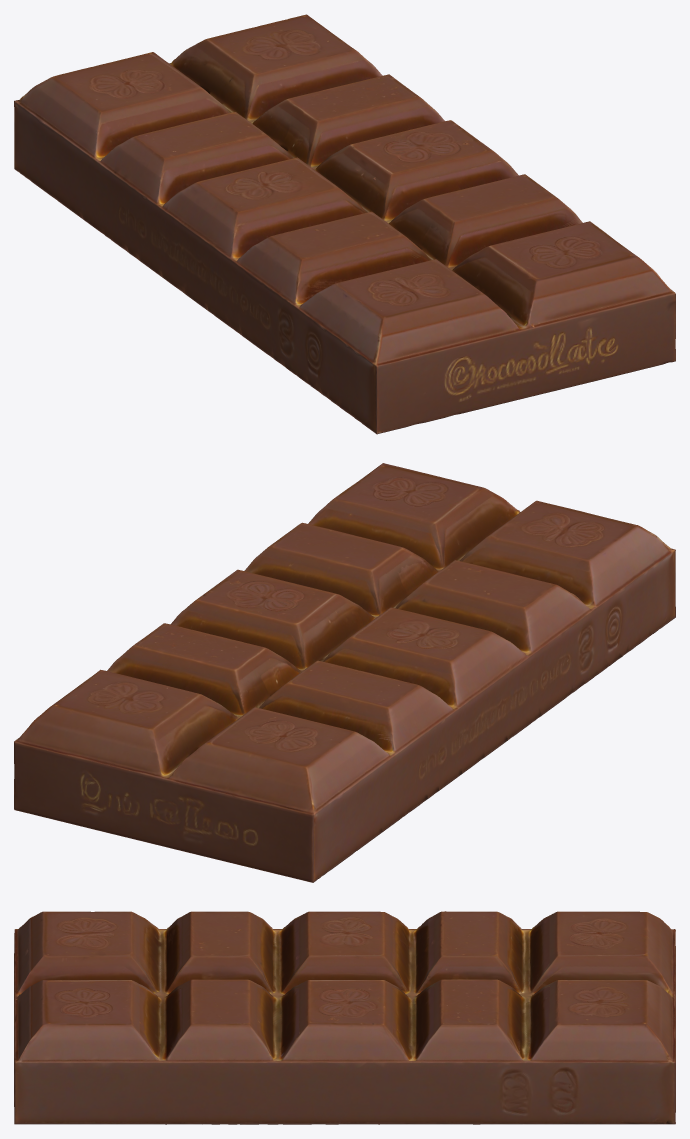
The model's file is Asset 4.glb.
3 views of the same model, one above another, from view 1: azimuth 30°, elevation 25°; view 2: azimuth 150°, elevation 25°; view 3: azimuth 270°, elevation 25° (orthographic). The views are drawn at different scales.
Size of the model in its own units: 0.952 by 0.3014 by 1.99.
Materials: 1 (1 with a texture image).
